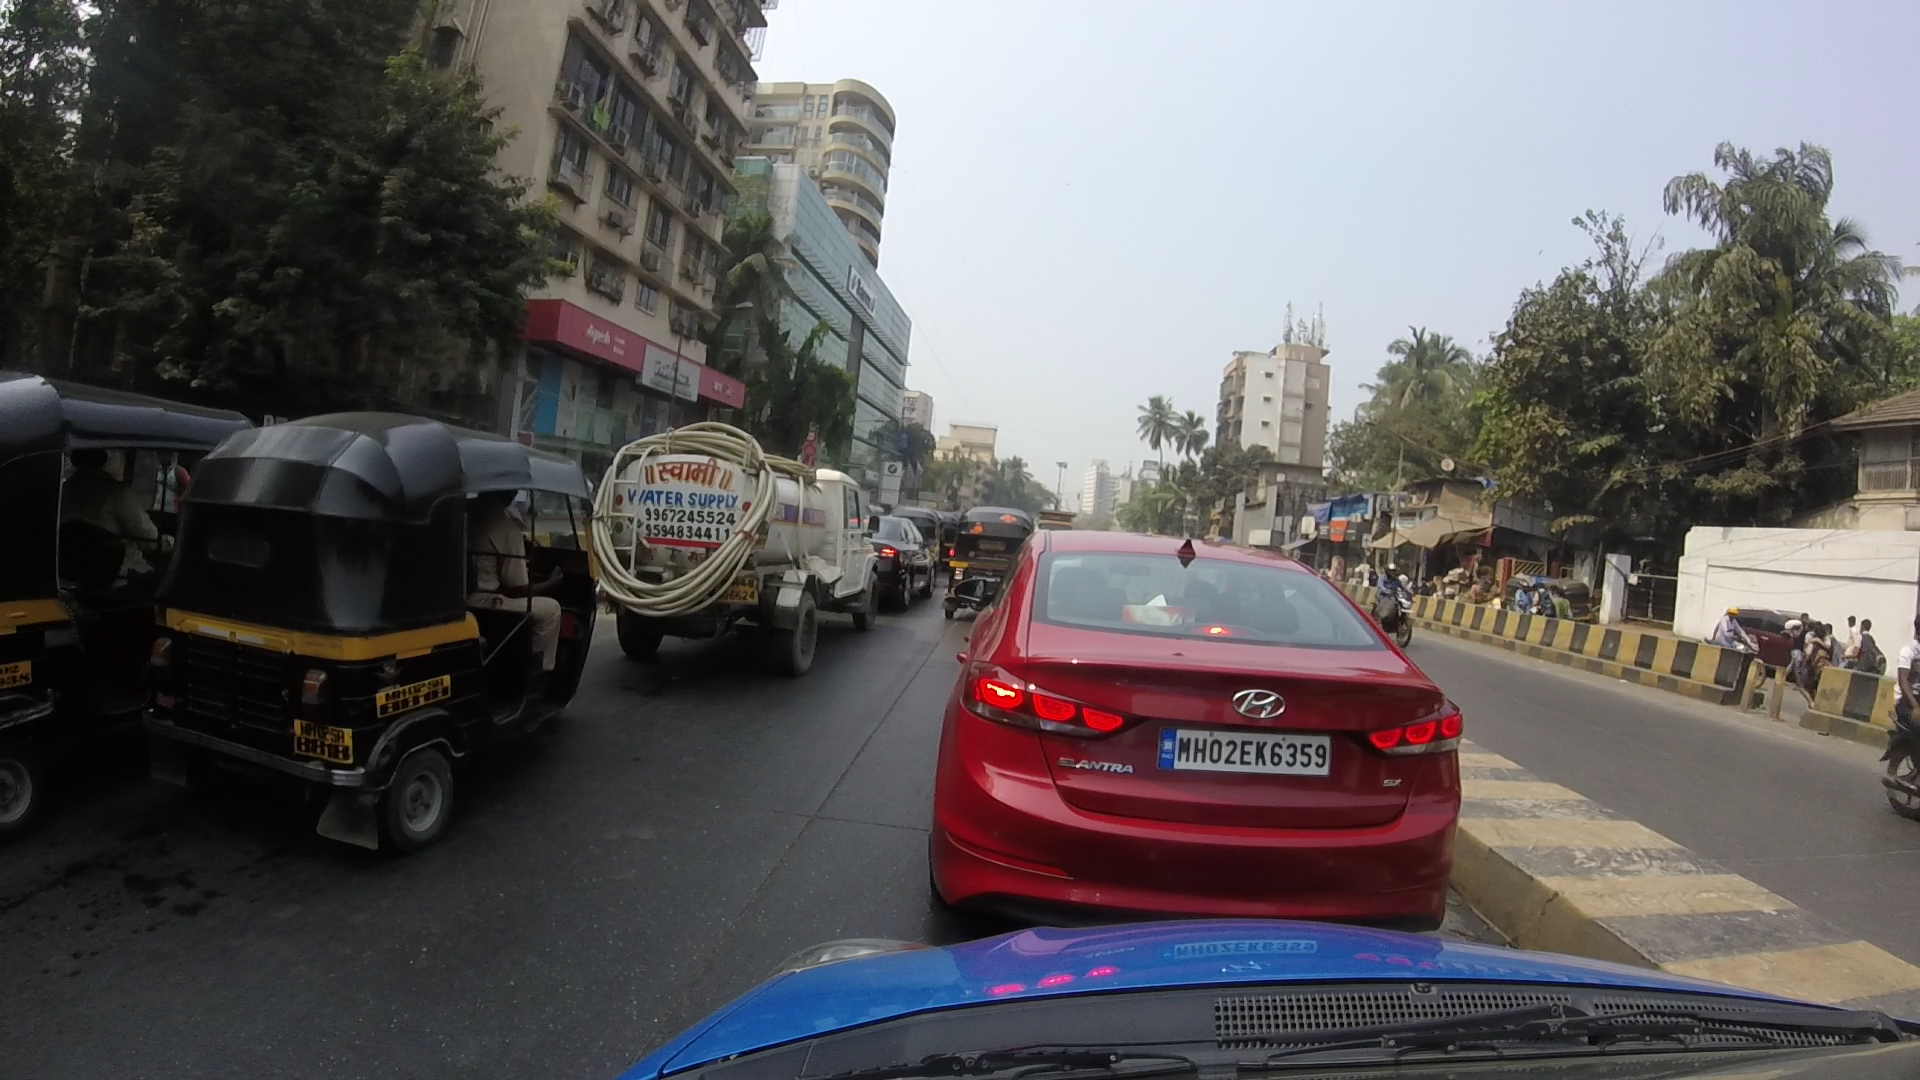car: (952, 521, 1466, 944), (943, 501, 1025, 630)
rickshaw: (181, 404, 608, 848), (11, 375, 222, 845)
truck: (622, 444, 876, 673)
